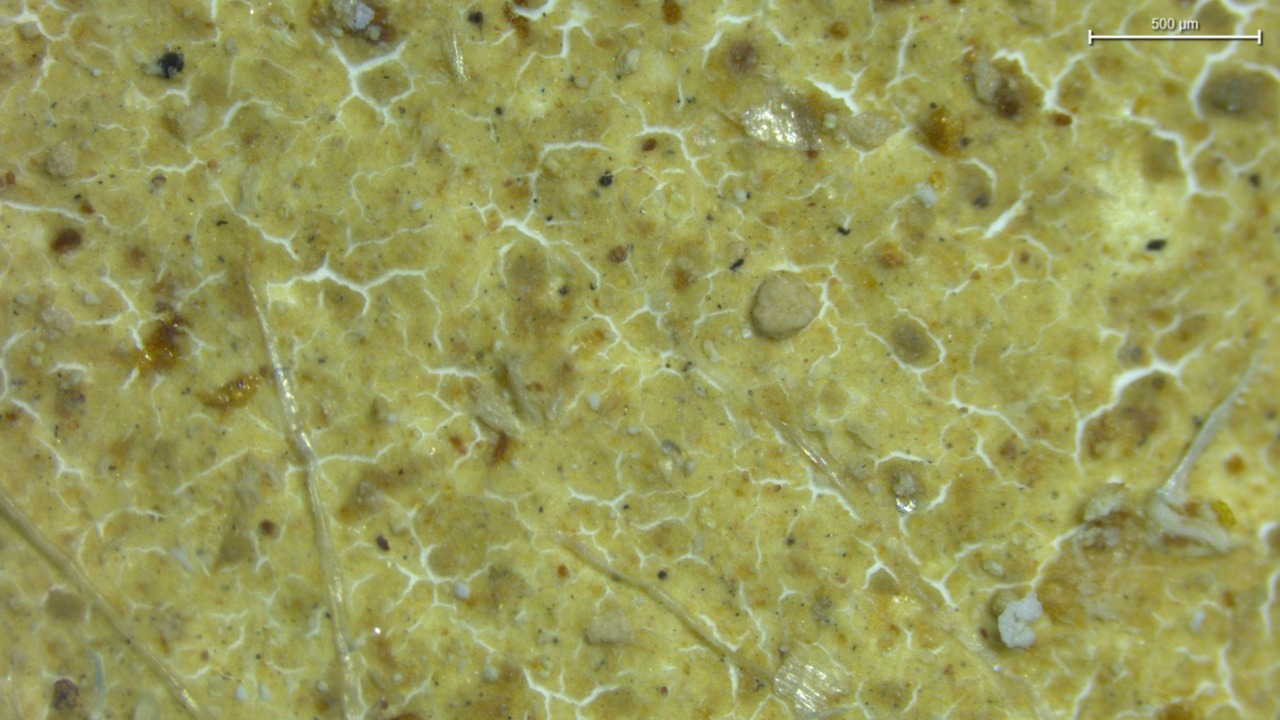microplastic_fragment: (749, 273, 818, 339), (998, 592, 1043, 648)
